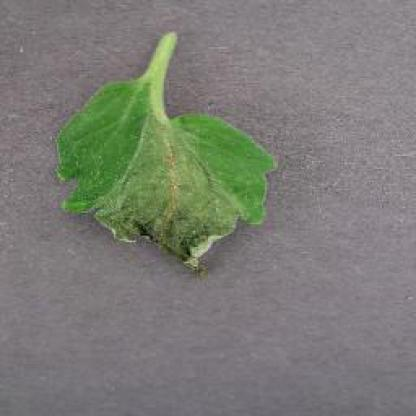bad leaf: (50, 19, 276, 290)
